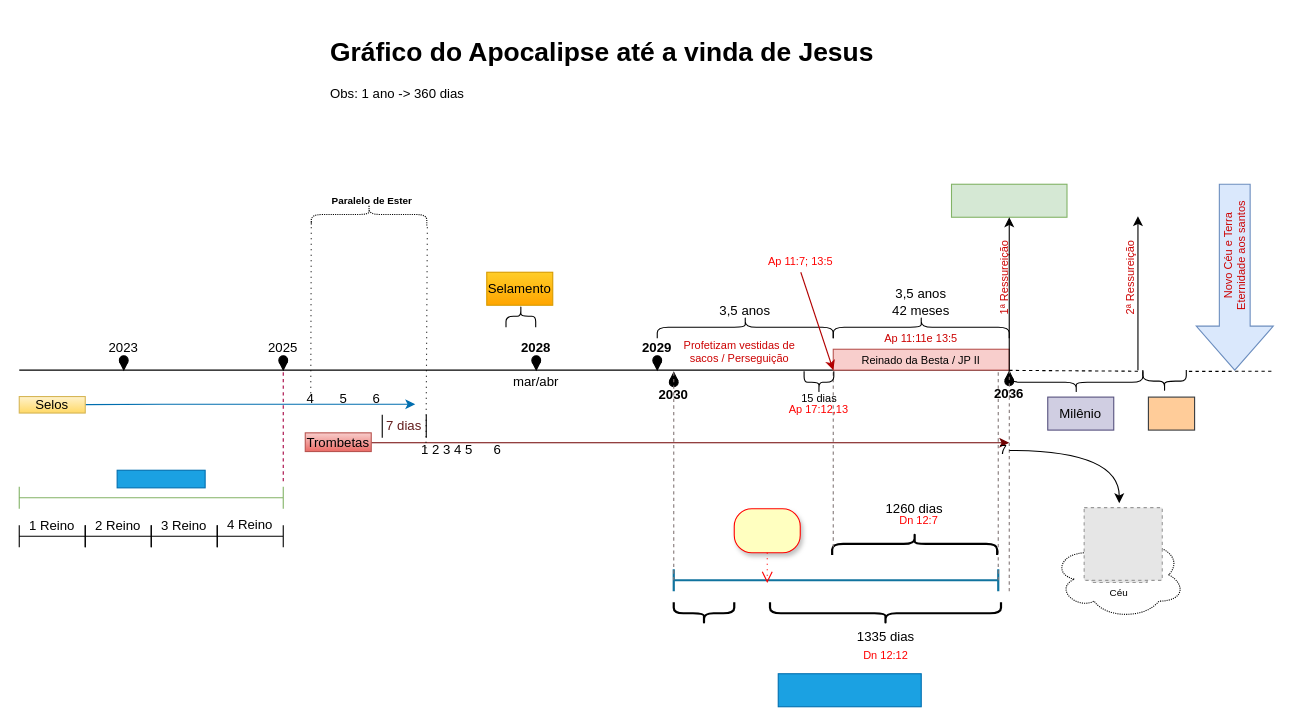
Image size: 1294x726. Some labels were removed from this diagram. Grey dashed boxes stand in for pictures. The centre of each missing label's shape, as x and y in pixels:
"2300 Tardes e Manhãs" belongs at pixel 849 690.
"70 semanas" belongs at pixel 703 613.
"Daniel 11:2" belongs at pixel 160 478.
"Decreto Dominical Mundial" belongs at pixel 768 531.
"Lago de fogo" belongs at pixel 1171 413.
"Vinda de Jesus" belongs at pixel 1008 200.
